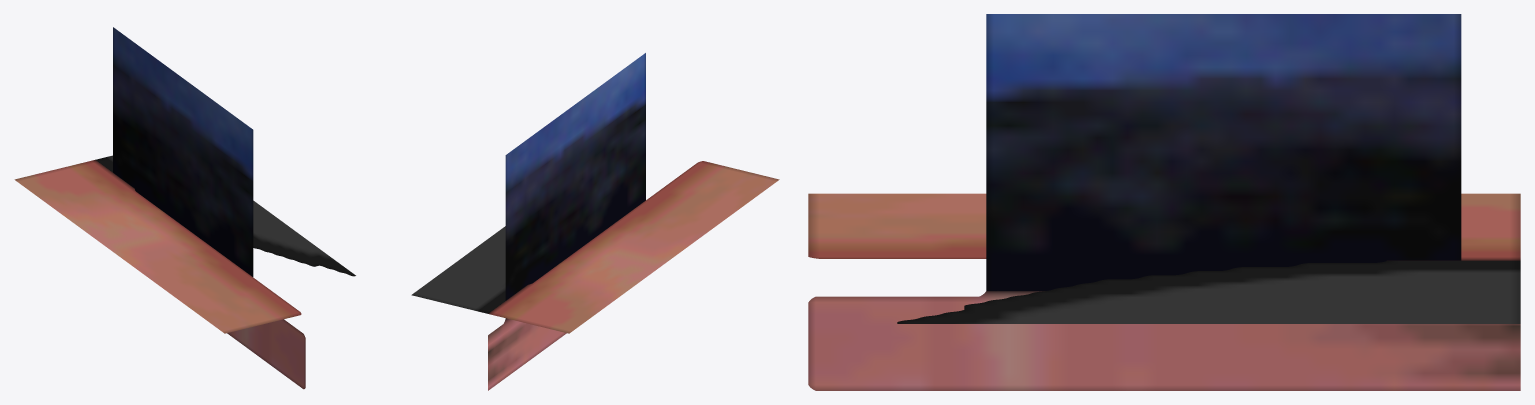
3 renders of one model, left to right at view 1: azimuth 30°, elevation 25°; view 2: azimuth 150°, elevation 25°; view 3: azimuth 270°, elevation 25°, orthographic. The views are drawn at different scales.
Visible parts, largest first — view 1: T1L9M005_1; view 2: T1L9M005_1; view 3: T1L9M005_1.
Part boxes in pixels (x1=…): T1L9M005_1: x1=14, y1=27, x2=355, y2=389; T1L9M005_1: x1=411, y1=53, x2=779, y2=390; T1L9M005_1: x1=808, y1=14, x2=1520, y2=390.
Size of the model in its own units: 0.8154 by 1.1 by 1.88.
